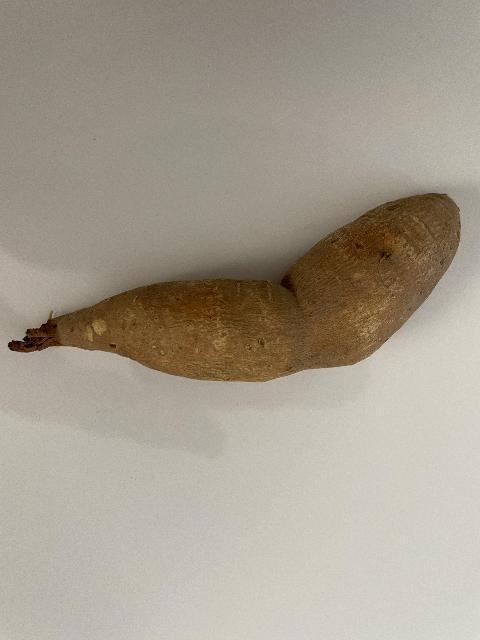sweetpotato: (10, 192, 460, 384)
